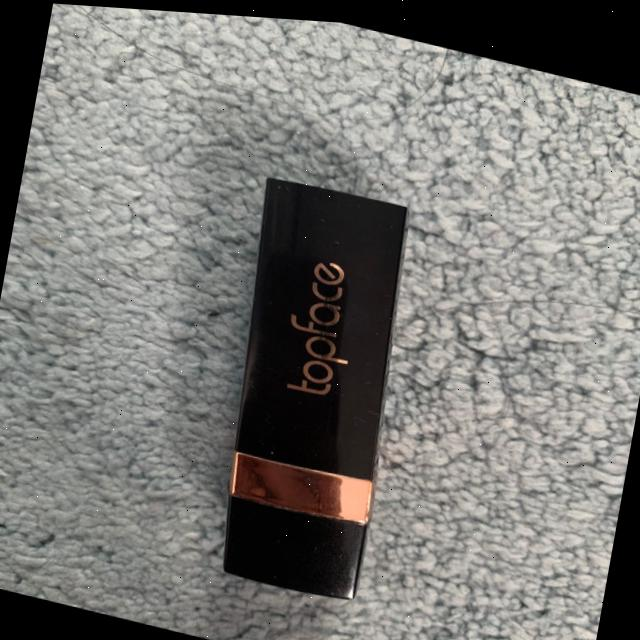lip stick: (172, 138, 478, 635)
